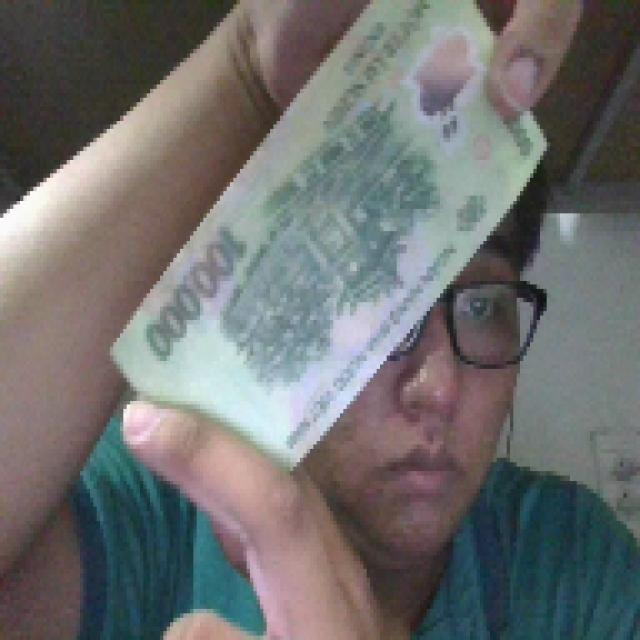100 000 VND: (106, 0, 556, 476)
